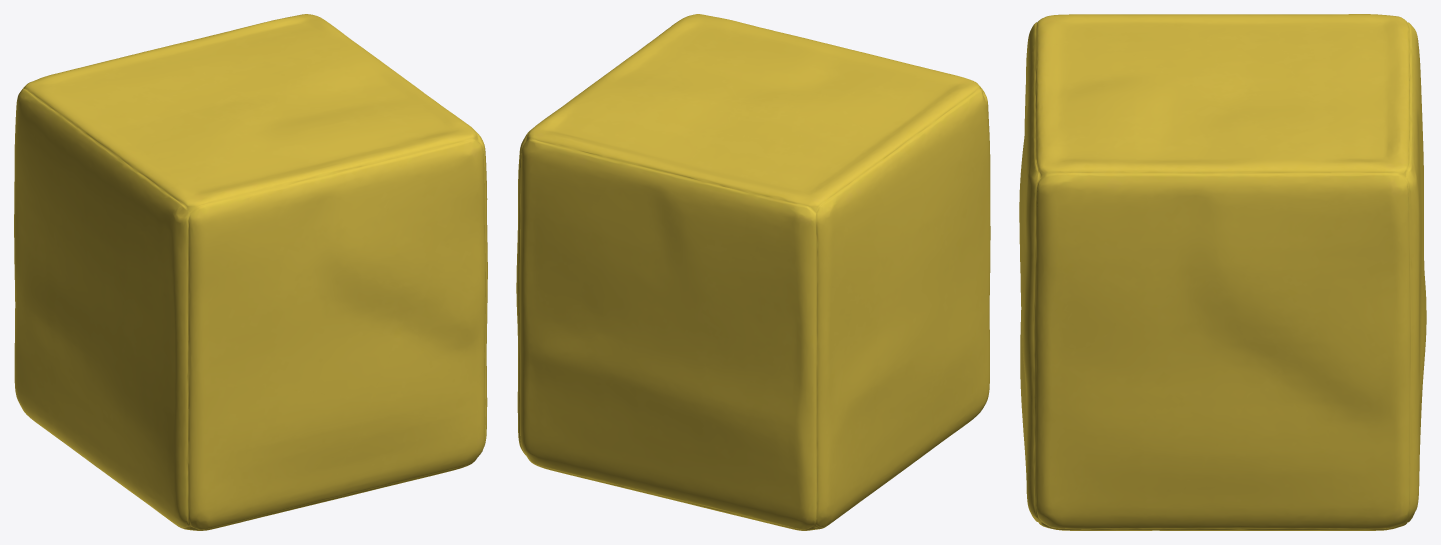
Rendered from cube_yellow.glb.
3 views of the same model, side by side, from view 1: azimuth 30°, elevation 25°; view 2: azimuth 150°, elevation 25°; view 3: azimuth 270°, elevation 25° (orthographic). The views are drawn at different scales.
Visible parts, largest first — view 1: tripo_node_5093a365-7645-442f-beb4-aa51088ed776; view 2: tripo_node_5093a365-7645-442f-beb4-aa51088ed776; view 3: tripo_node_5093a365-7645-442f-beb4-aa51088ed776.
Part boxes in pixels (box(x1,y1,x2,y2)): tripo_node_5093a365-7645-442f-beb4-aa51088ed776: box(14, 14, 487, 530); tripo_node_5093a365-7645-442f-beb4-aa51088ed776: box(516, 14, 990, 530); tripo_node_5093a365-7645-442f-beb4-aa51088ed776: box(1019, 14, 1426, 530).
Bounding box in the file's own units: 0.9981 × 0.9958 × 1.
Materials: 1 (1 with a texture image).
